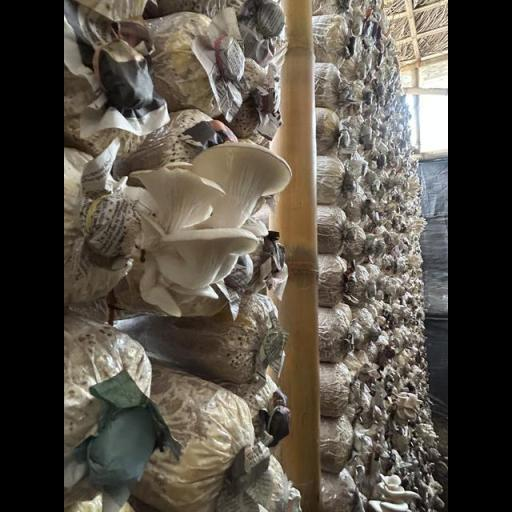White Oyster Mushroom: (117, 136, 296, 329)
